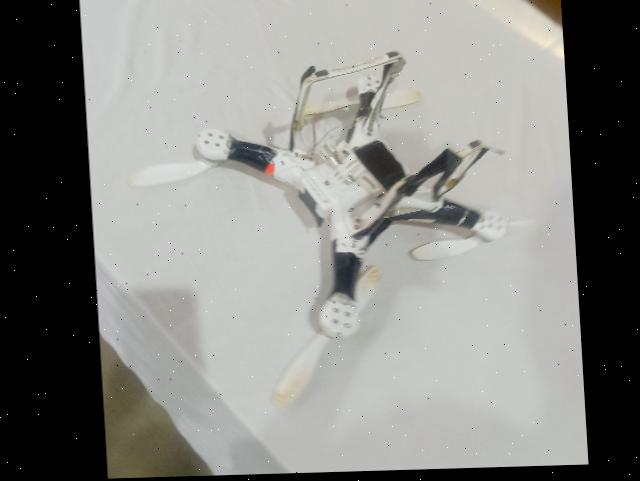drone: (118, 26, 547, 428)
